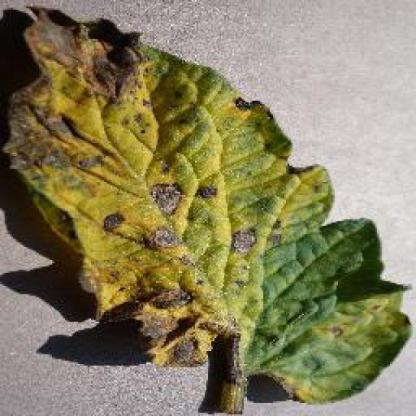Tomato_Blight: (7, 7, 412, 400)
